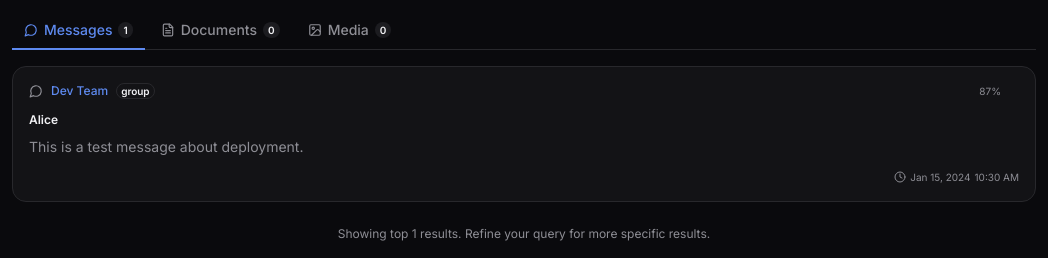
Test: SearchResultsPanel › renders empty tab message when switching to Documents with no docs
The width and height of the screenshot is (1048, 258).
Click the tab "Documents 0": (220, 31) [149,12,292,50]
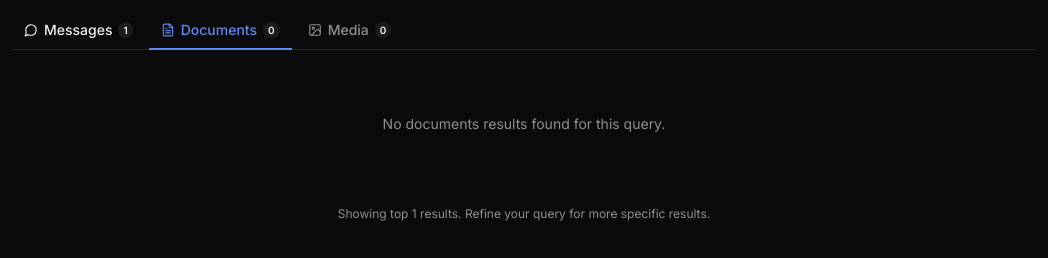
Expected: the text "No documents results found for this query." is shown, [383,115,665,132]
